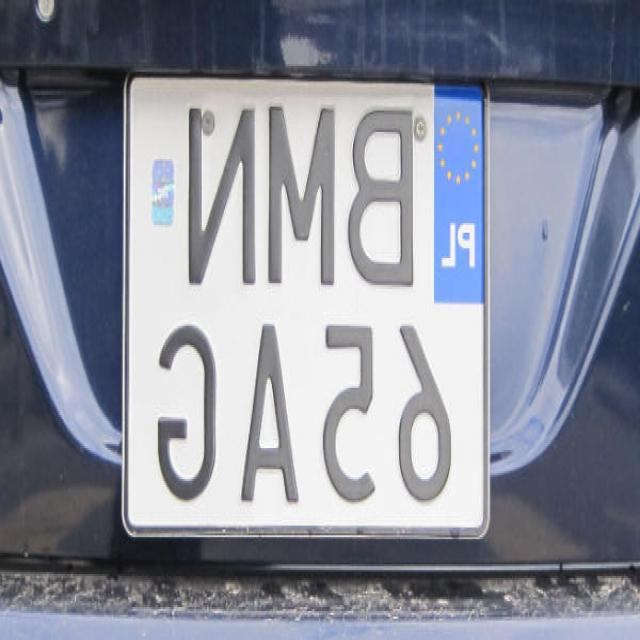pl_license_plate: (132, 86, 486, 526)
